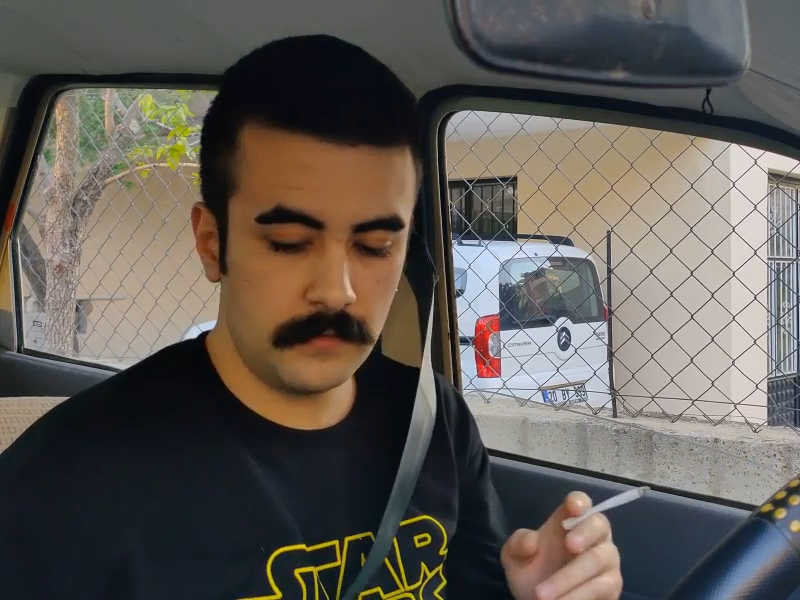sigara: (561, 481, 656, 532)
